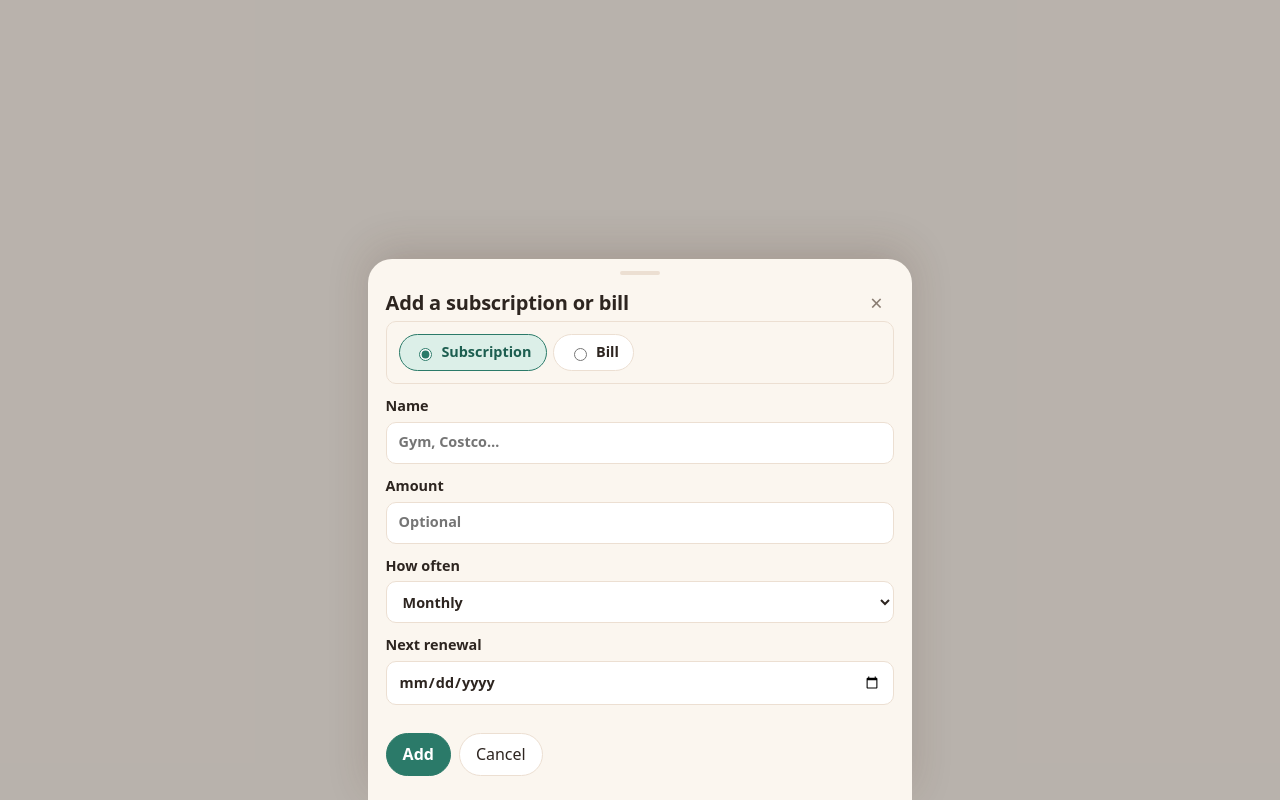
AddSubscription › shows the server's message, e.g. already in your list
Type "Rent" into the field labelled "Name".
click(640, 443); type("Rent")  # box [386,422,894,464]
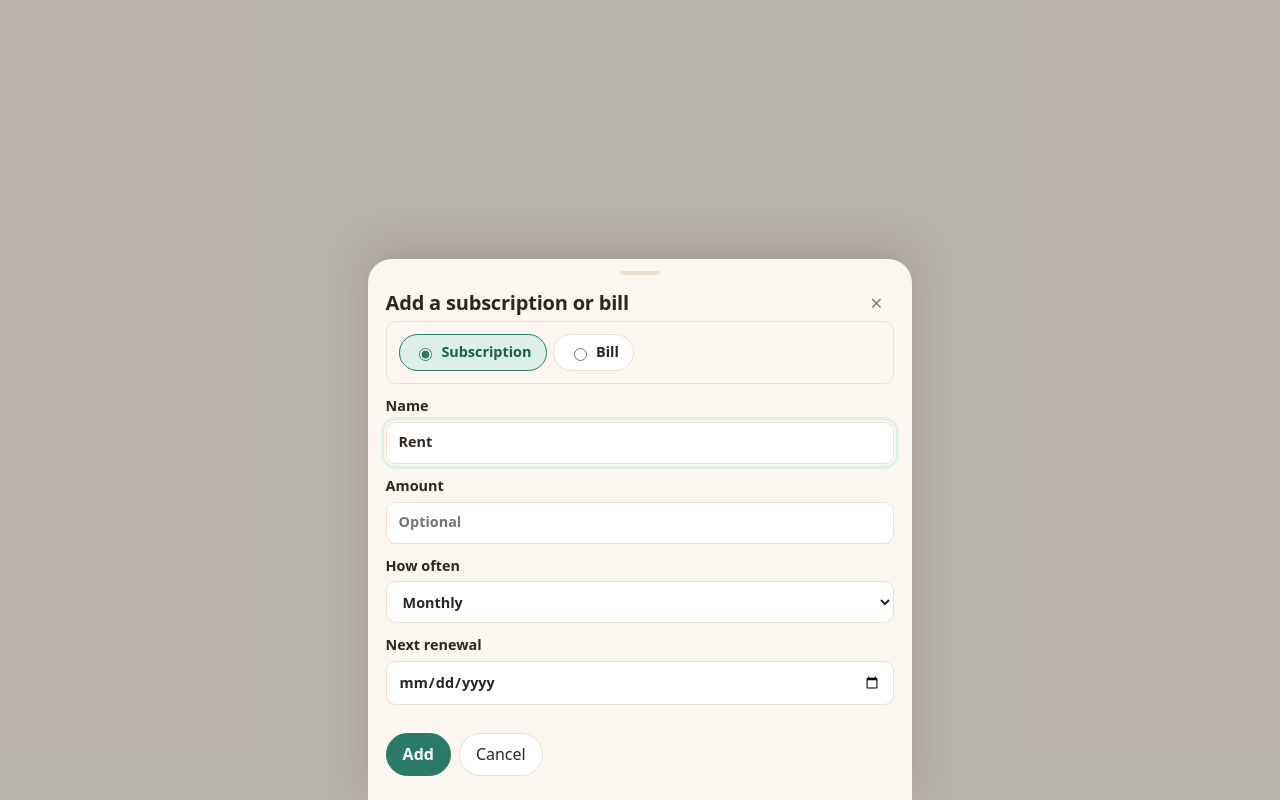
Type "2026-11-01" into the date field labelled "Next renewal".
click(640, 683); type("2026-11-01")  # box [386,661,894,705]
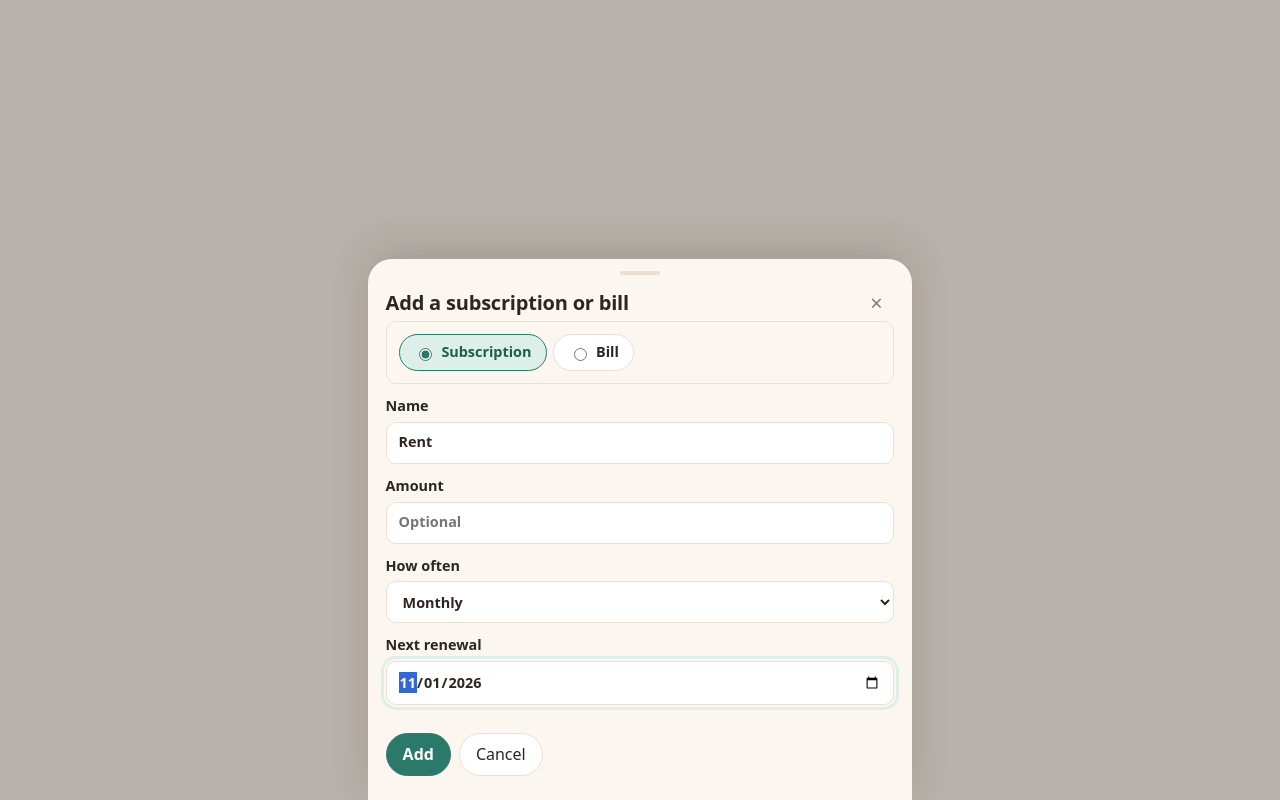
Click the button "Add".
click(418, 755)  # box [386,733,451,776]
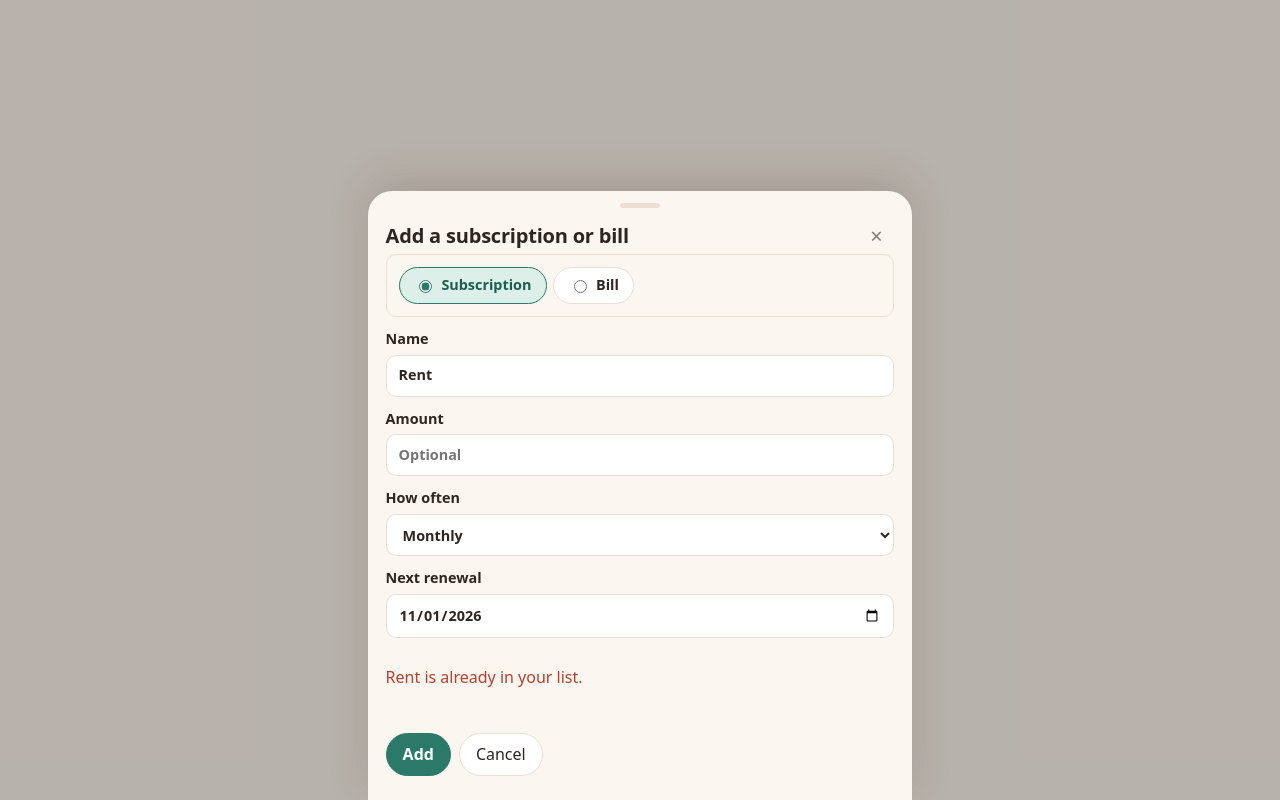
expect the message shows "already in your list": met, box [386,666,583,688]
